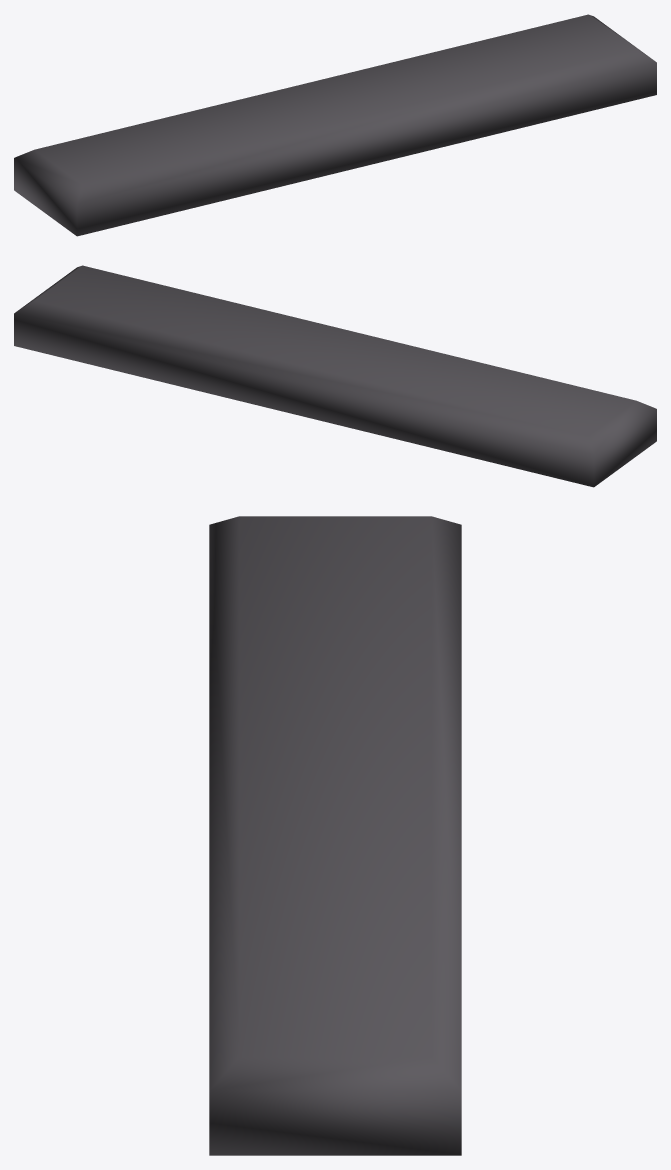
Rendered from InishmoreFlatRock_2width_Var4.fbx.
3 views of the same model, one above another, from view 1: azimuth 30°, elevation 25°; view 2: azimuth 150°, elevation 25°; view 3: azimuth 270°, elevation 25° (orthographic). The views are drawn at different scales.
Visible parts, largest first — view 1: InishmoreFlatRock.008; view 2: InishmoreFlatRock.008; view 3: InishmoreFlatRock.008.
Boxes of the visible parts, x1=… form: InishmoreFlatRock.008: x1=14, y1=14, x2=656, y2=236; InishmoreFlatRock.008: x1=14, y1=265, x2=656, y2=487; InishmoreFlatRock.008: x1=209, y1=516, x2=461, y2=1155.
Bounding box in the file's own units: 416 × 29.45 × 78.3.
